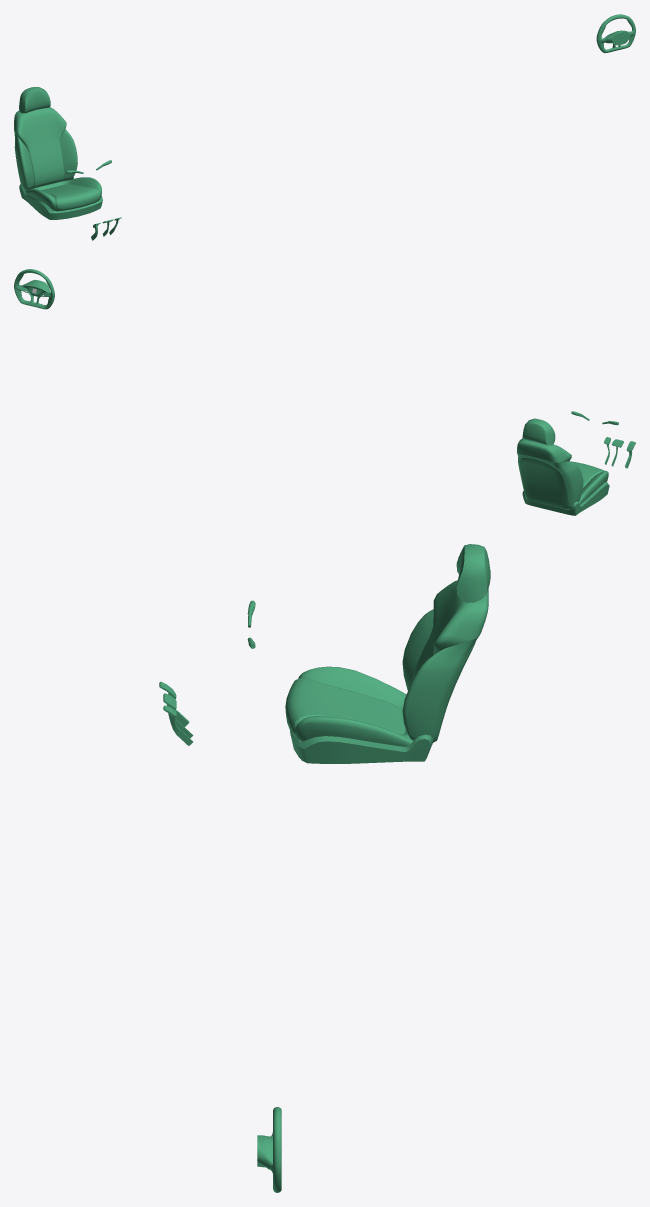
The model's file is CarlaVR_vehicles_Interactables.fbx.
3 views of the same model, one above another, from view 1: azimuth 30°, elevation 25°; view 2: azimuth 150°, elevation 25°; view 3: azimuth 270°, elevation 25° (orthographic). The views are drawn at different scales.
Visible parts, largest first — view 1: vivace_seat_FL, vivace_steering_wheel_S; view 2: vivace_seat_FL, vivace_steering_wheel_S; view 3: vivace_seat_FL, vivace_steering_wheel_S.
Part boxes in pixels (left/top/right/bottom): vivace_seat_FL: left=14, top=87, right=102, bottom=219; vivace_steering_wheel_S: left=596, top=14, right=635, bottom=53; vivace_seat_FL: left=517, top=418, right=609, bottom=515; vivace_steering_wheel_S: left=14, top=269, right=54, bottom=309; vivace_seat_FL: left=285, top=544, right=490, bottom=763; vivace_steering_wheel_S: left=257, top=1107, right=281, bottom=1192.
Bounding box in the file's own units: 54530 × 8609 × 13469.
